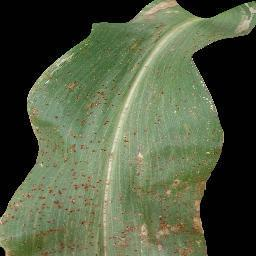Corn_Common_Rust: (2, 126, 234, 256), (26, 58, 143, 125), (52, 21, 118, 58), (127, 23, 183, 58), (132, 0, 208, 23), (218, 0, 256, 41), (193, 67, 220, 116), (157, 85, 187, 114), (149, 111, 171, 127)
